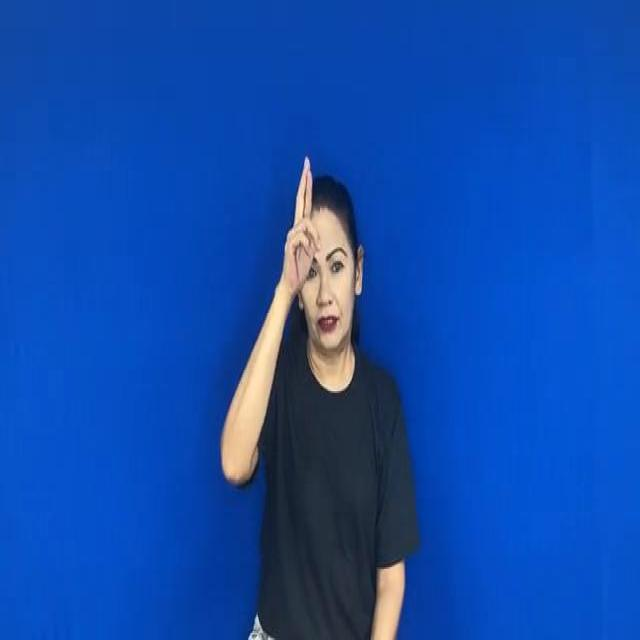chicken: (282, 157, 324, 295)
